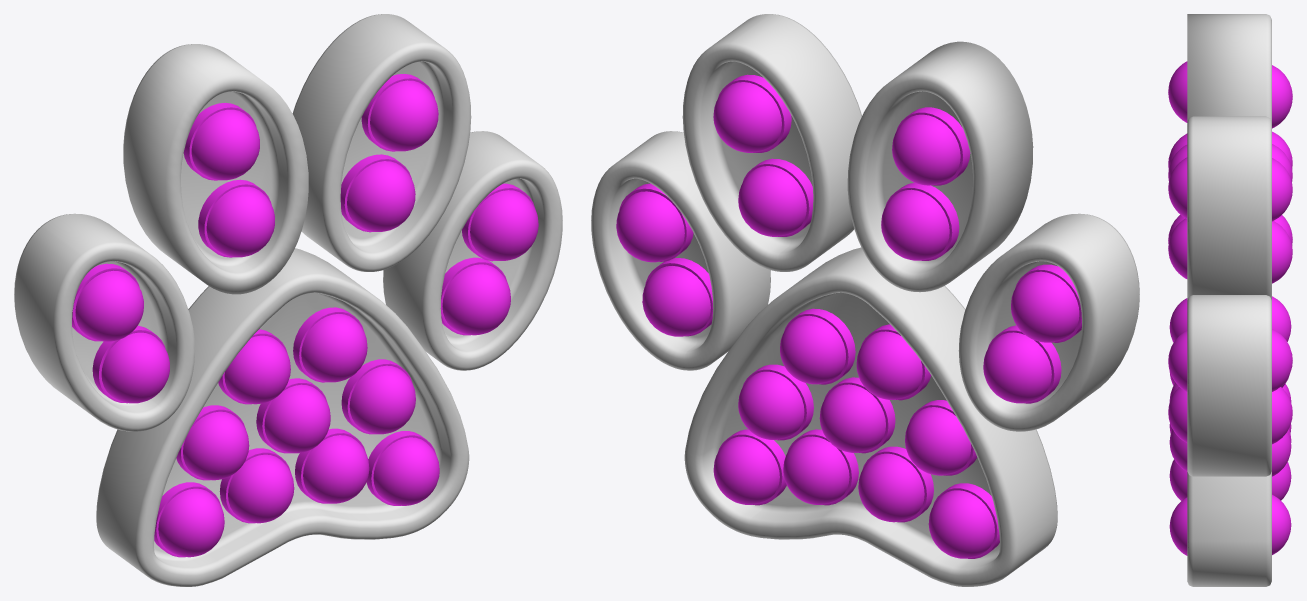
3 views of the same model, side by side, from view 1: azimuth 30°, elevation 25°; view 2: azimuth 150°, elevation 25°; view 3: azimuth 270°, elevation 25° (orthographic). The views are drawn at different scales.
Visible parts, largest first — view 1: Extrude.002, Sphere.355, Sphere.352, Sphere.354, Sphere.358, Sphere.353, Sphere.357, Sphere.359, Sphere.356, Sphere.361, Sphere.366, Sphere.363 (+18 smaller); view 2: Extrude.002, Sphere.338, Sphere.342, Sphere.337, Sphere.339, Sphere.340, Sphere.336, Sphere.341, Sphere.335, Sphere.345, Sphere.350, Sphere.343 (+20 smaller); view 3: Extrude.002, Sphere.338, Sphere.335, Sphere.336, Sphere.342, Sphere.341, Sphere.352, Sphere.356, Sphere.355, Sphere.354, Sphere.348, Sphere.357 (+12 smaller).
Boxes of the visible parts, box(x1,y1,x2,y2) form: Extrude.002: box(14, 14, 562, 586); Sphere.355: box(370, 80, 438, 151); Sphere.352: box(191, 109, 259, 180); Sphere.354: box(347, 161, 415, 231); Sphere.358: box(101, 332, 169, 403); Sphere.353: box(206, 186, 274, 257); Sphere.357: box(442, 264, 510, 335); Sphere.359: box(75, 270, 143, 341); Sphere.356: box(470, 190, 538, 260); Sphere.361: box(301, 314, 367, 382); Sphere.366: box(373, 437, 439, 505); Sphere.363: box(264, 384, 330, 453); Extrude.002: box(591, 14, 1139, 586); Sphere.338: box(892, 114, 960, 185); Sphere.342: box(616, 191, 684, 262); Sphere.337: box(881, 189, 949, 260); Sphere.339: box(1011, 271, 1079, 342); Sphere.340: box(983, 332, 1051, 403); Sphere.336: box(738, 166, 806, 236); Sphere.341: box(642, 266, 710, 336); Sphere.335: box(713, 82, 781, 152); Sphere.345: box(738, 371, 804, 439); Sphere.350: box(783, 436, 849, 504); Sphere.343: box(780, 315, 845, 384); Extrude.002: box(1187, 14, 1271, 586); Sphere.338: box(1272, 65, 1292, 128); Sphere.335: box(1272, 158, 1292, 221); Sphere.336: box(1272, 221, 1292, 283); Sphere.342: box(1272, 329, 1292, 391); Sphere.341: box(1272, 387, 1292, 444); Sphere.352: box(1168, 61, 1187, 122); Sphere.356: box(1168, 330, 1187, 391); Sphere.355: box(1168, 157, 1187, 218); Sphere.354: box(1168, 218, 1187, 278); Sphere.348: box(1272, 494, 1291, 554); Sphere.357: box(1168, 387, 1187, 442).
Bounding box in the file's own units: 20.5 × 19.48 × 4.6.
